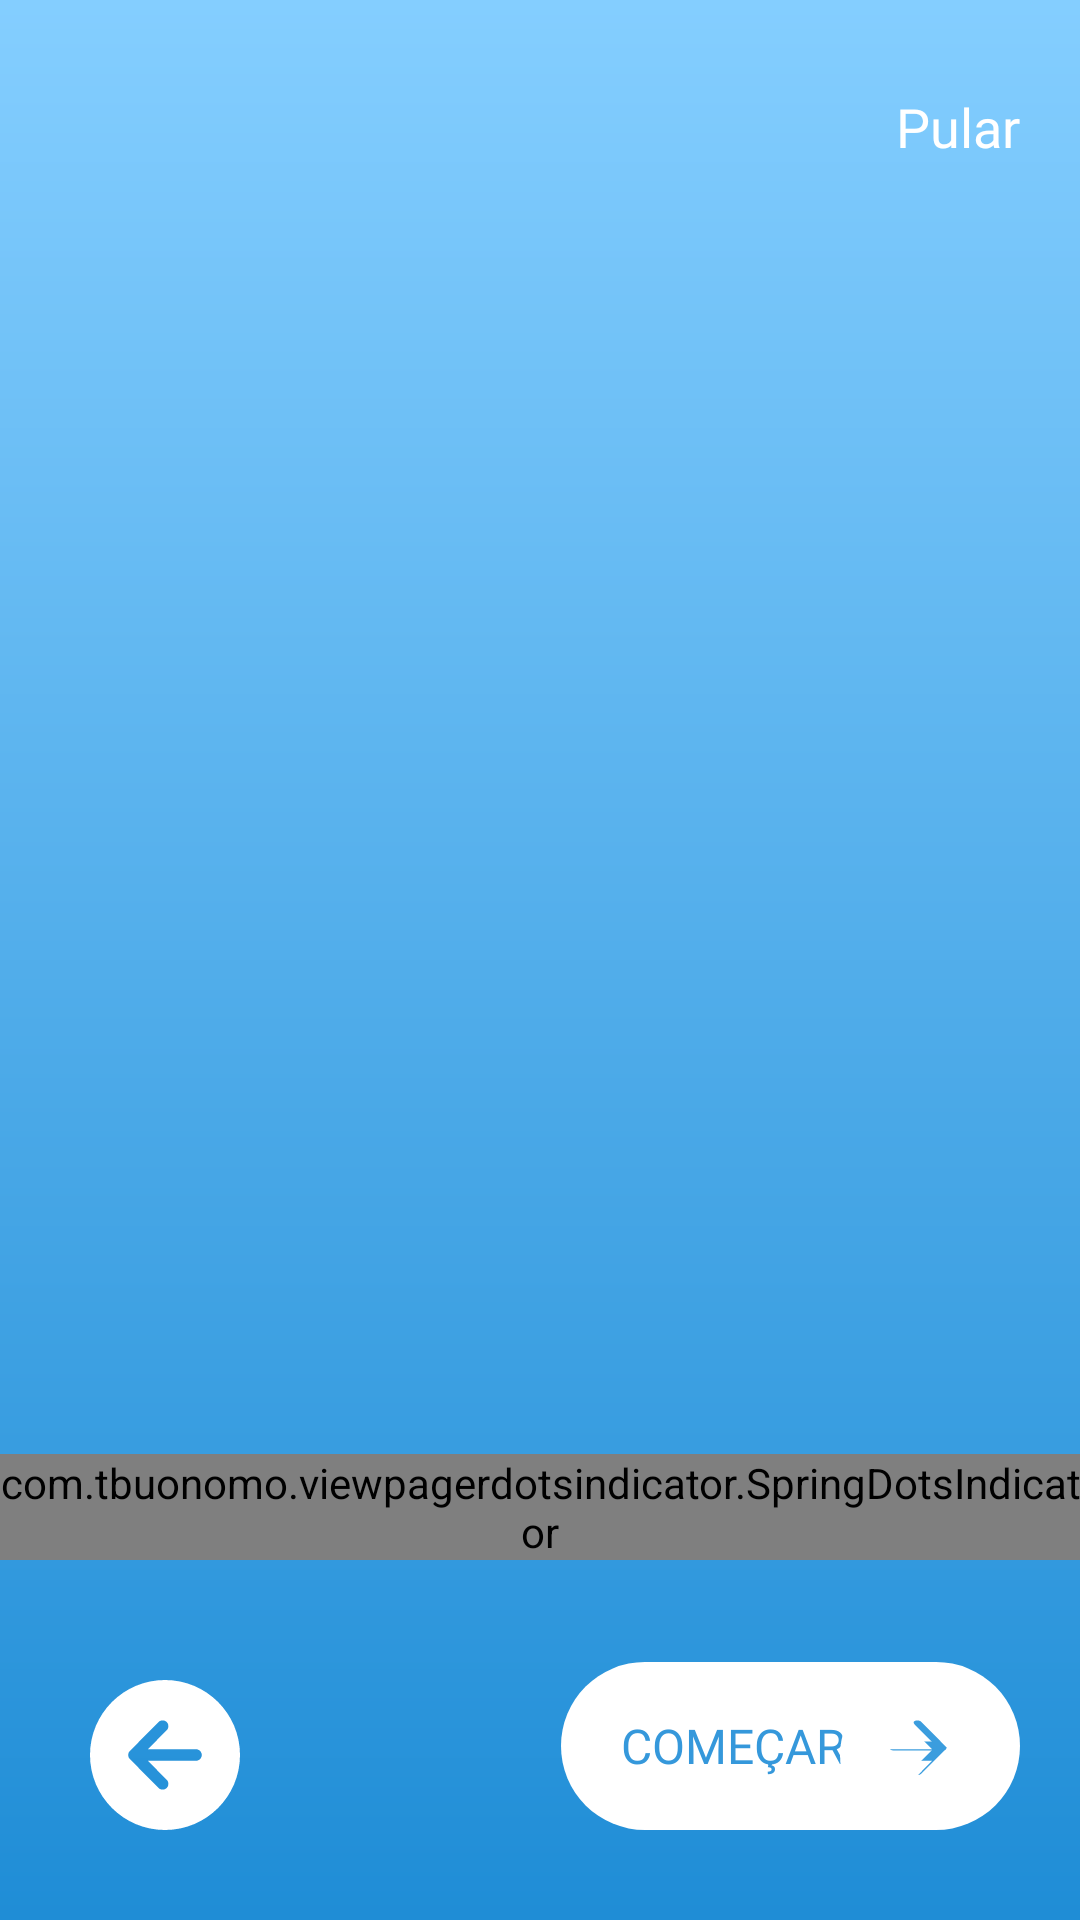

Where icons sit on this 1080x1920 app screen, as [x1, y1, x2, y2]:
arrow back slide: [90, 1680, 240, 1830]
arrow next slide: [890, 1720, 947, 1775]
